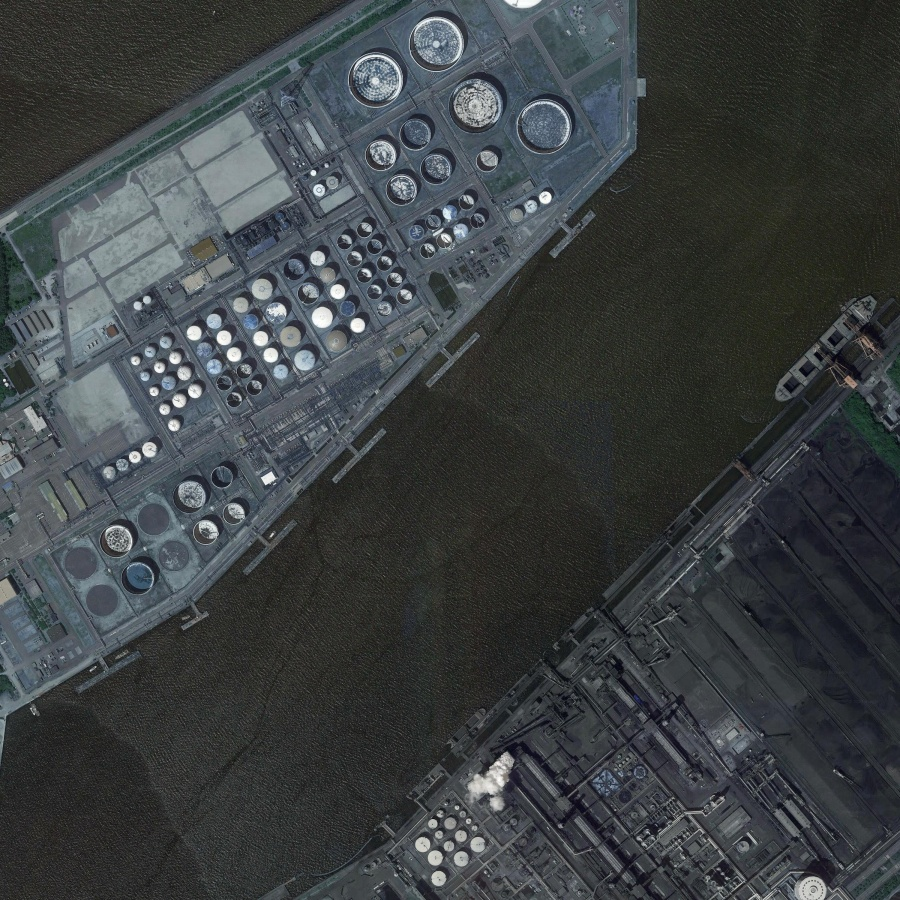PowerPlant: (46, 11, 579, 634)
